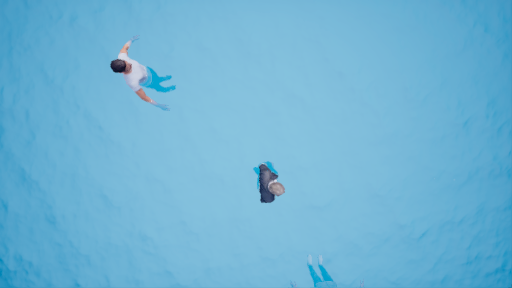person: (108, 27, 181, 112), (244, 144, 289, 208), (290, 253, 349, 288)
